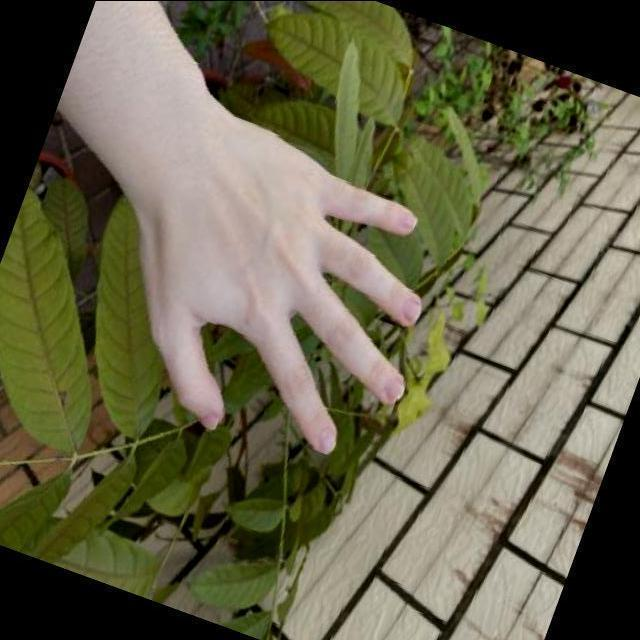hand: (64, 67, 494, 501)
